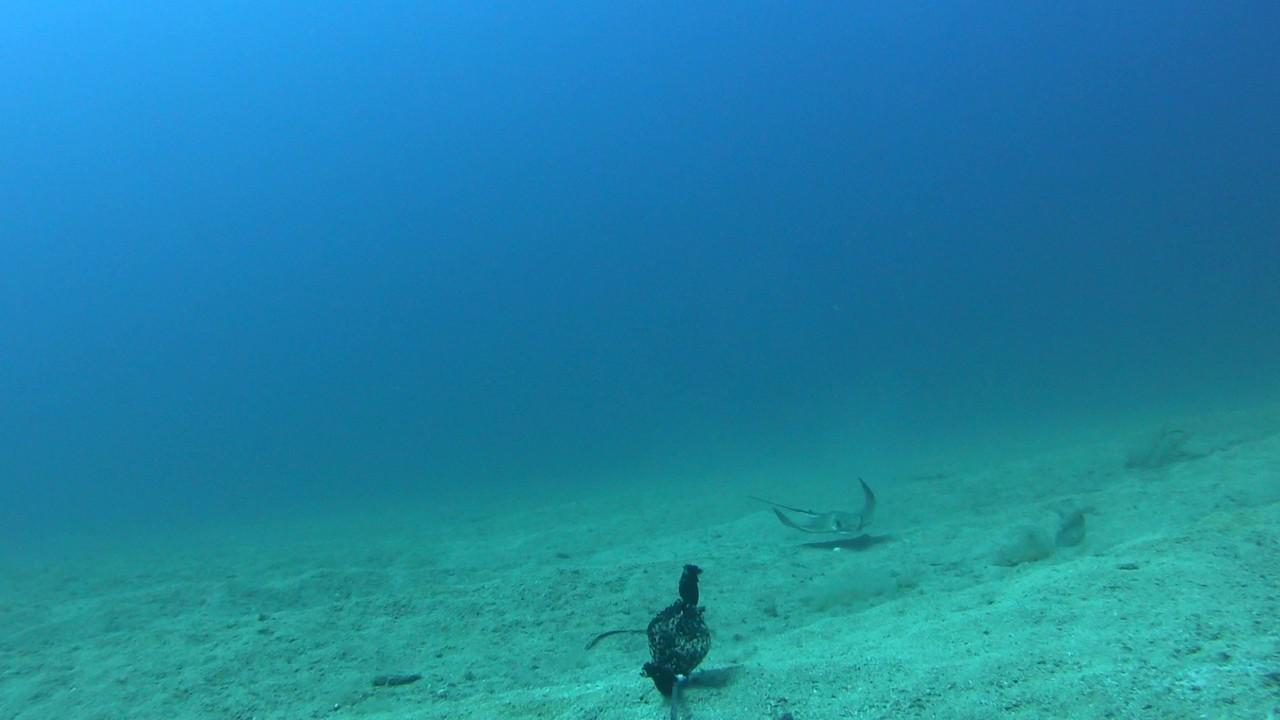myliobatis: (736, 465, 905, 543)
